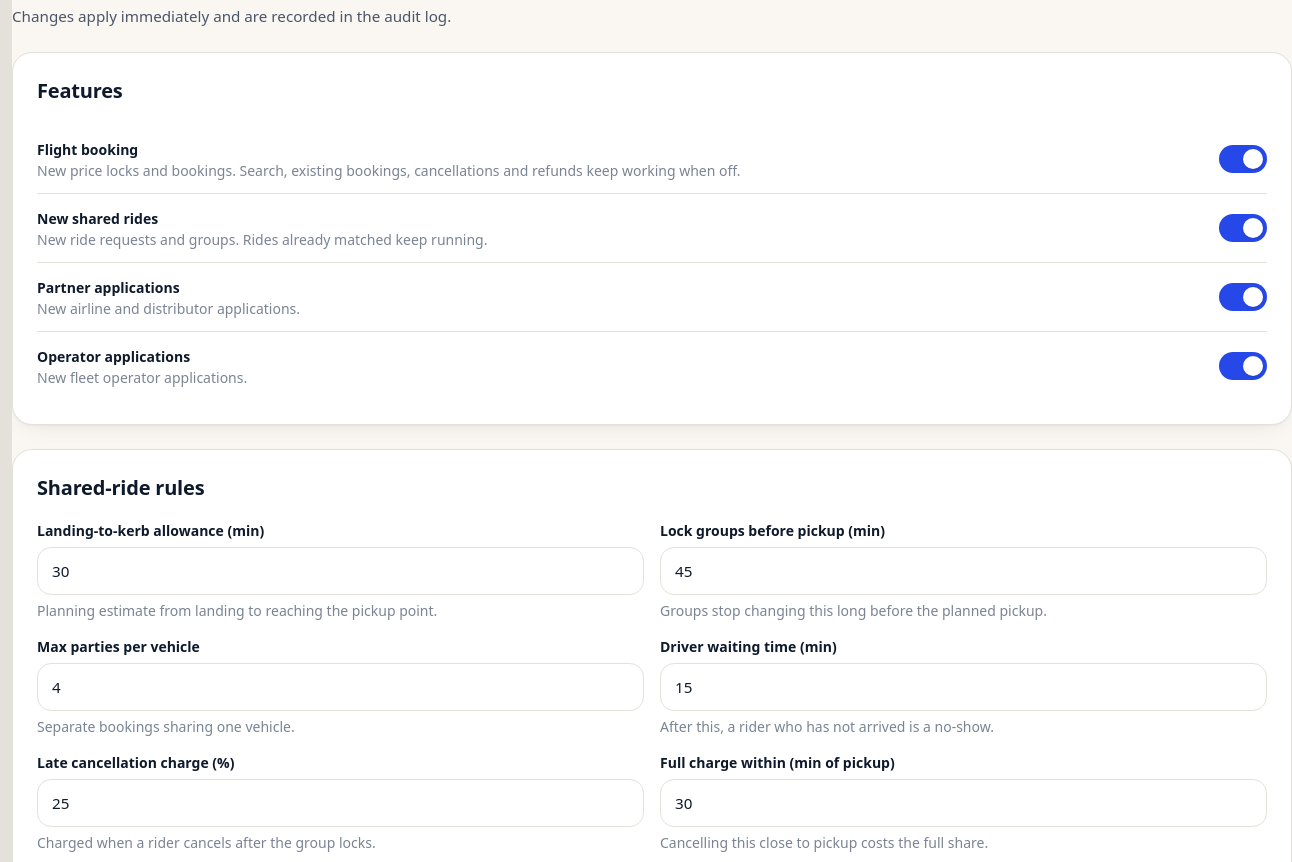
Test: admin settings › validates ride rules before saving
Replace the text in the field labelled "Max parties per vehicle" with "9". click: (340,687)
box: [37,663,644,711]
(page scrolled)
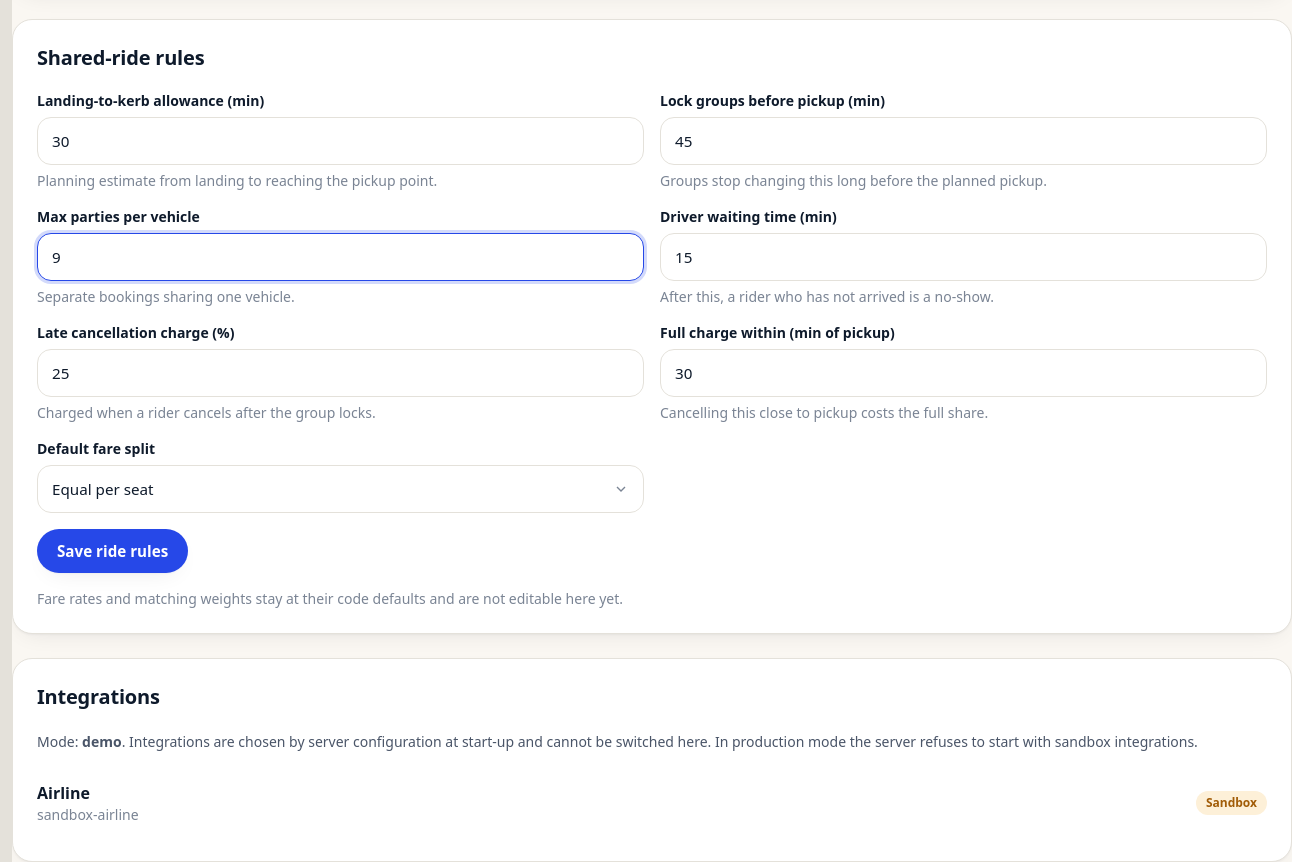
Click the button "Save ride rules". click: (113,551)
box: [37,529,188,573]
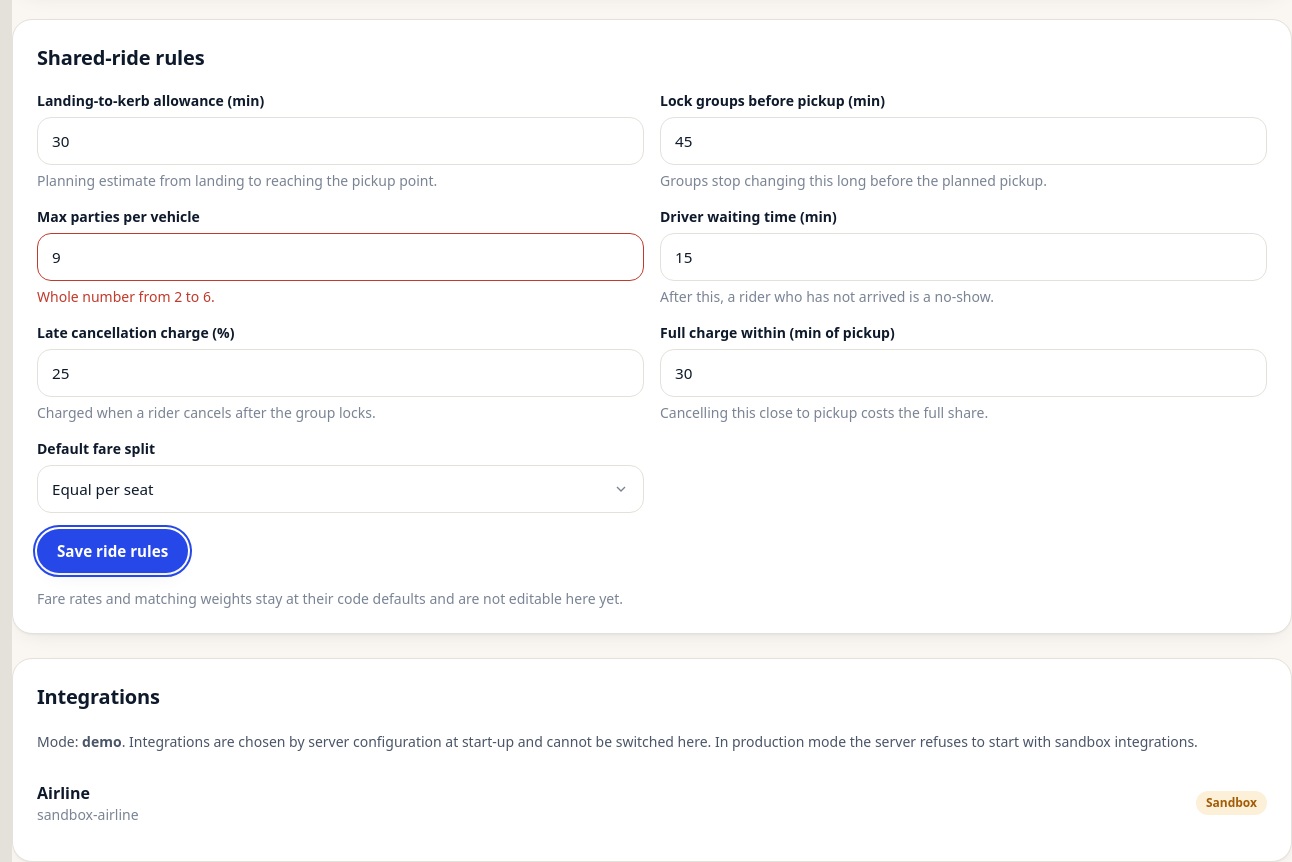
expect the text "Whole number from 2 to 6." is shown: met, box [37,287,215,306]
Replace the text in the field labelled "Max parties per vehicle" with "3". click: (340,257)
box: [37,233,644,281]
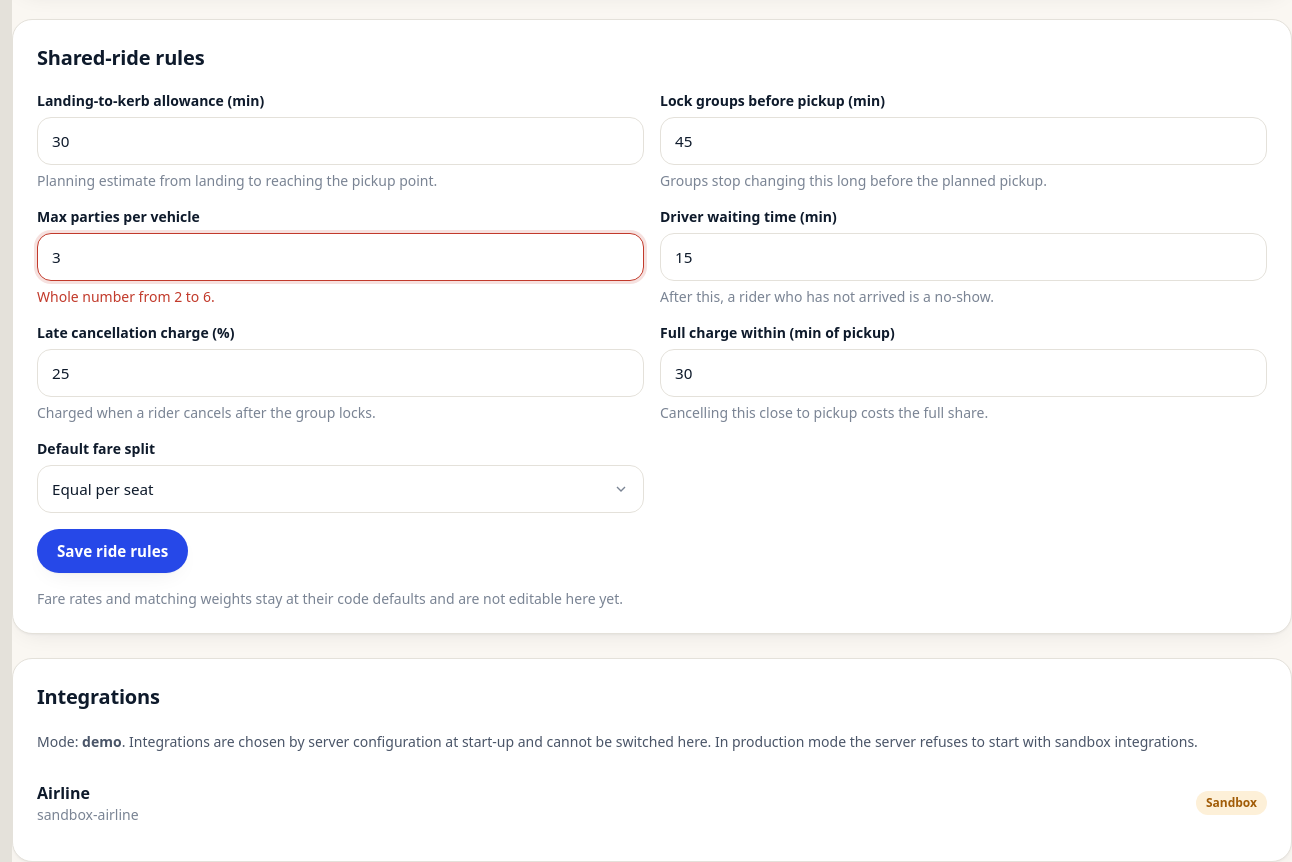
Click the button "Save ride rules". click: (113,551)
box: [37,529,188,573]
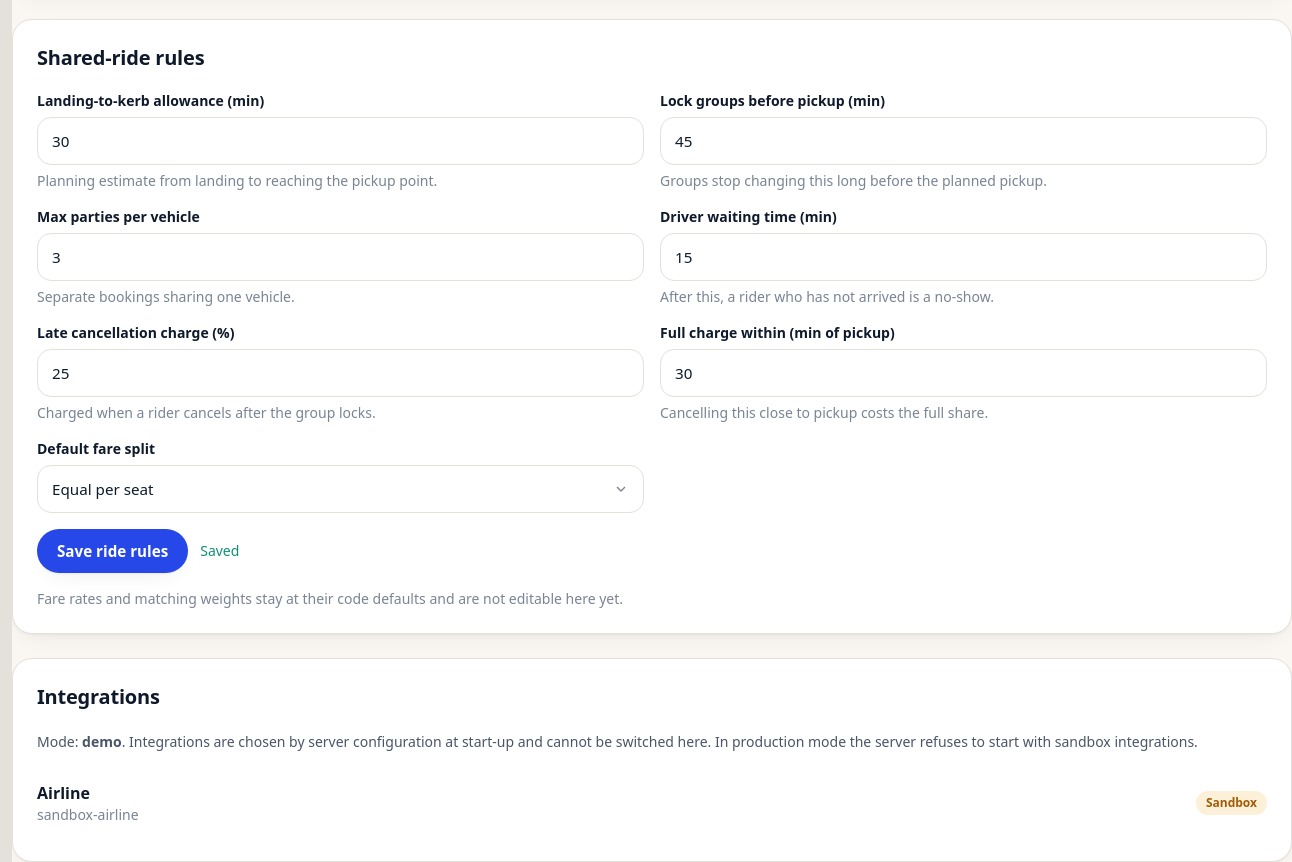
expect the message reads "Saved": met, box [200,541,239,560]
